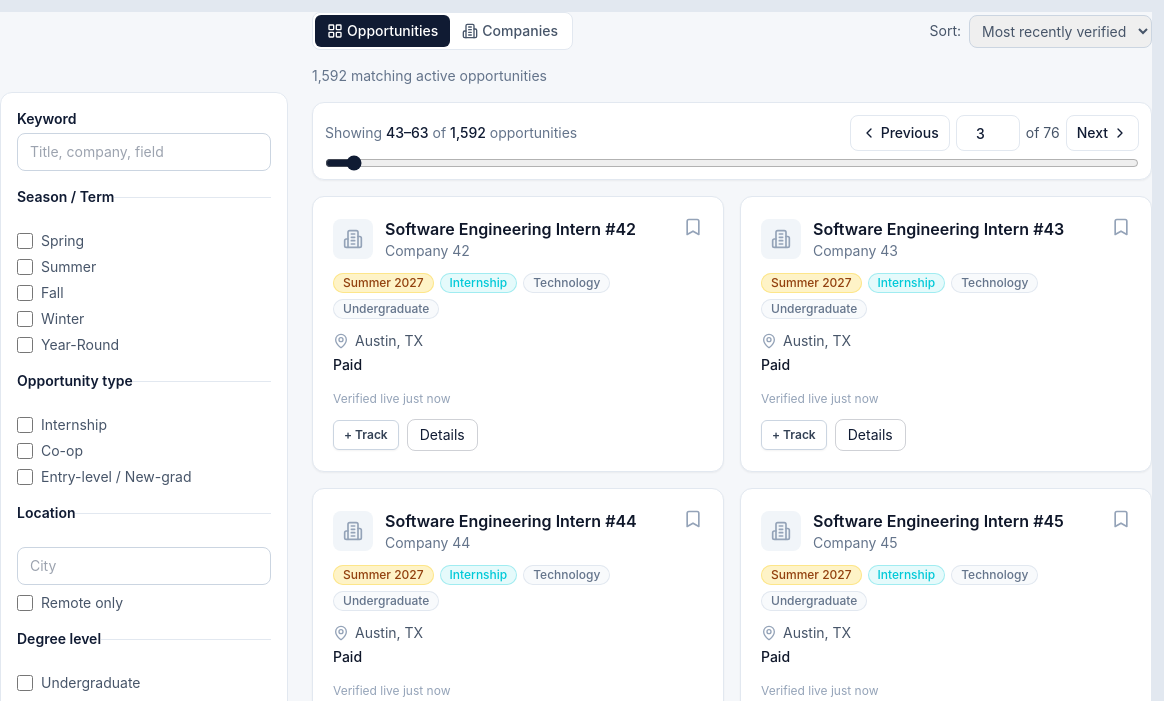
Test: Browse pagination (>1,000 roles) › resets to page 1 when a filter (season pill) changes
Expected: the link "Software Engineering Intern #42" is shown, [385,217,636,241]
Expected: the element with test id "pagination-summary" shows "Showing 43–63 of 1,592", [325,123,577,143]
Click the checkbox labelled "Summer" at [25, 267], box [17,259,33,275]
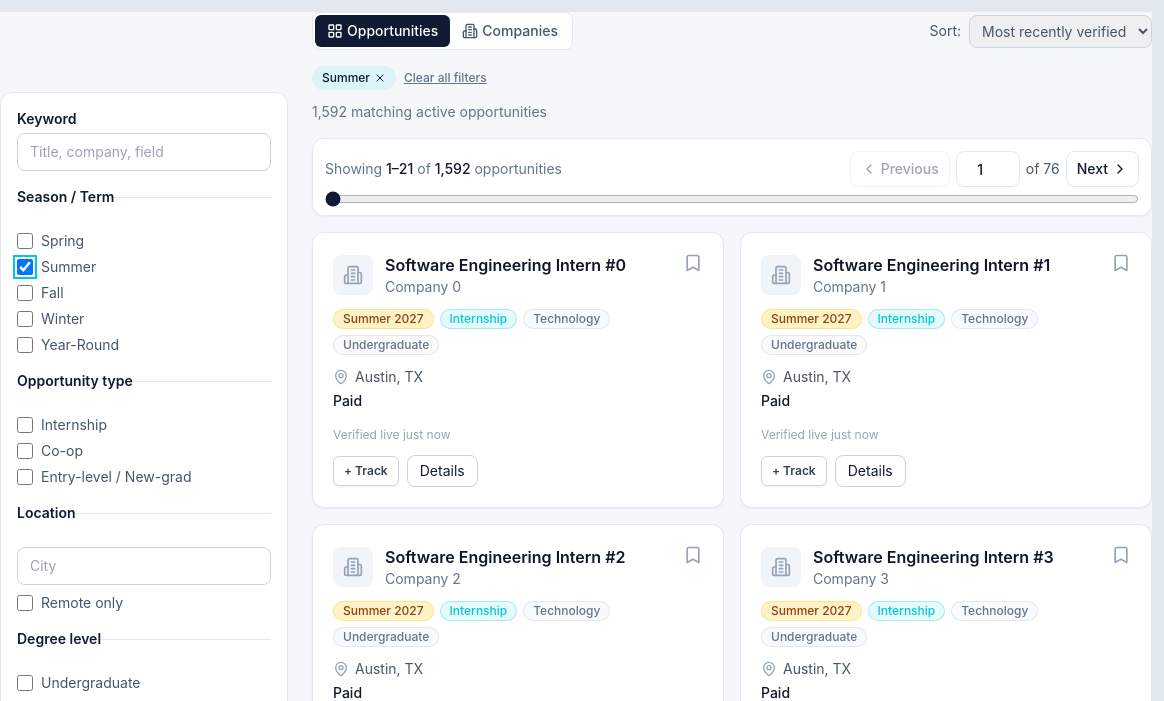
Now the link "Software Engineering Intern #0" is shown, box [385,253,626,277]
Now the element with test id "pagination-summary" shows "Showing 1–21 of 1,592", box [325,159,562,179]
